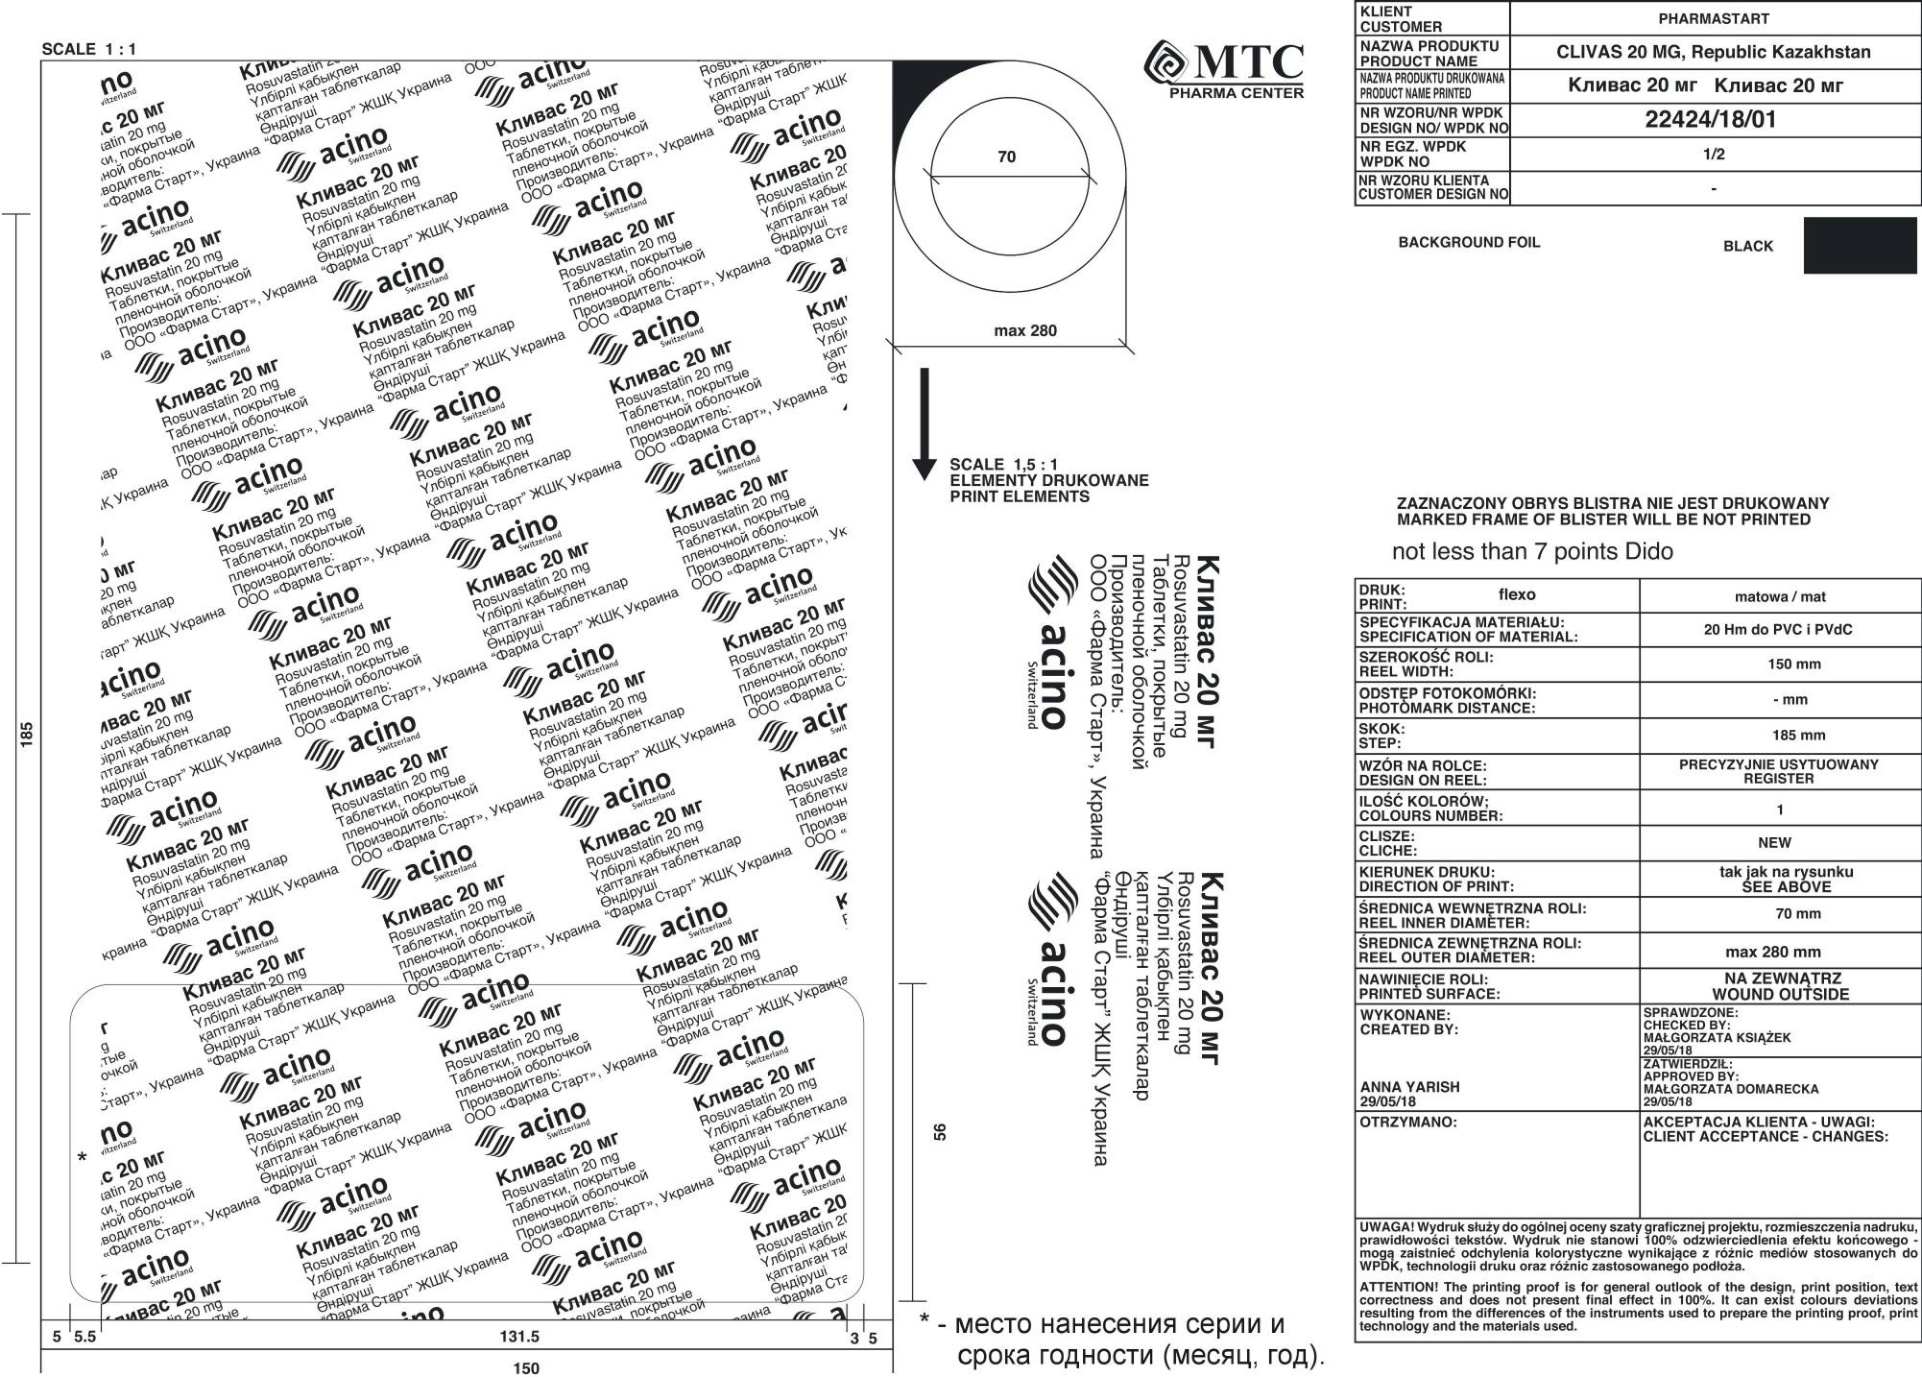full_lined: (1351, 1, 1922, 207)
merged_cells: (1353, 577, 1922, 1344)
